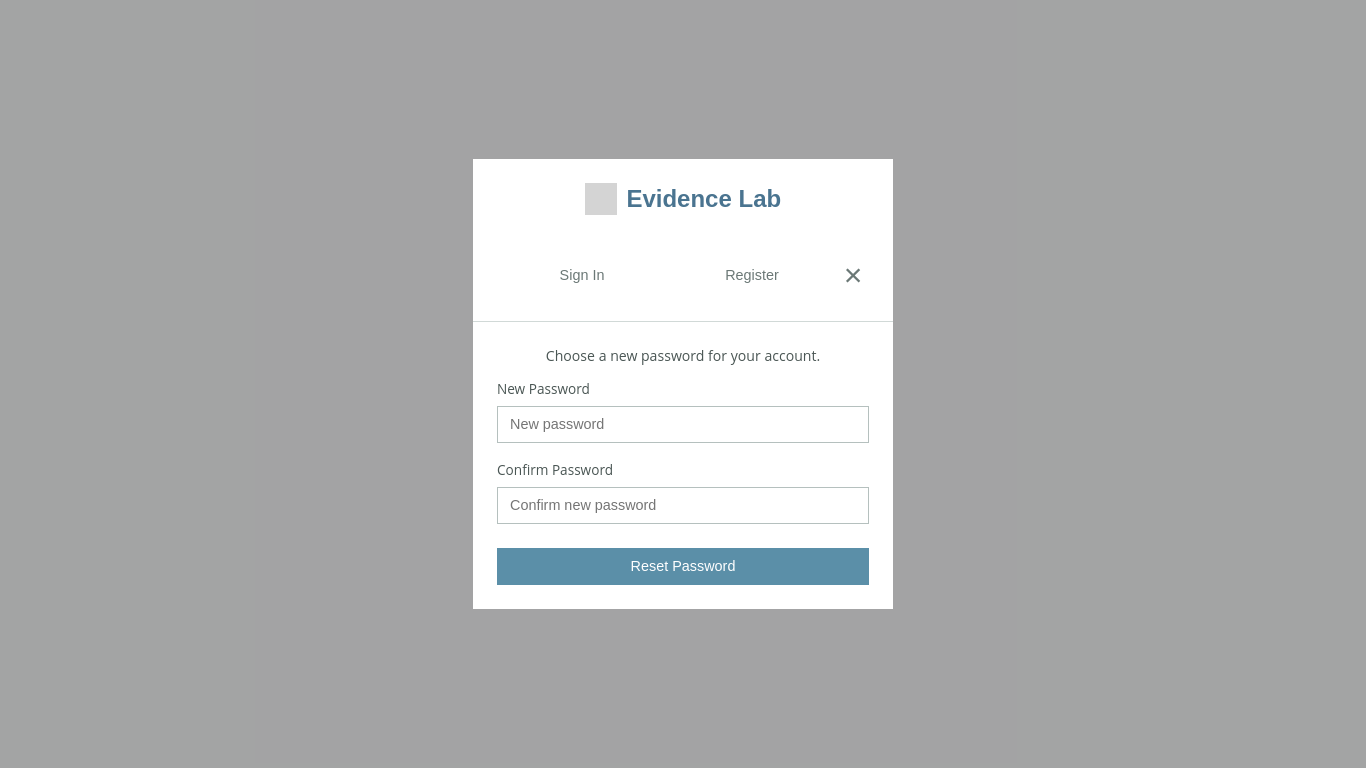
Test: LoginModal — Reset password › submits reset password and shows success on valid token
Type "newpassword123" into the password field labelled "New Password" at (683, 424), box left=497, top=406, right=869, bottom=443
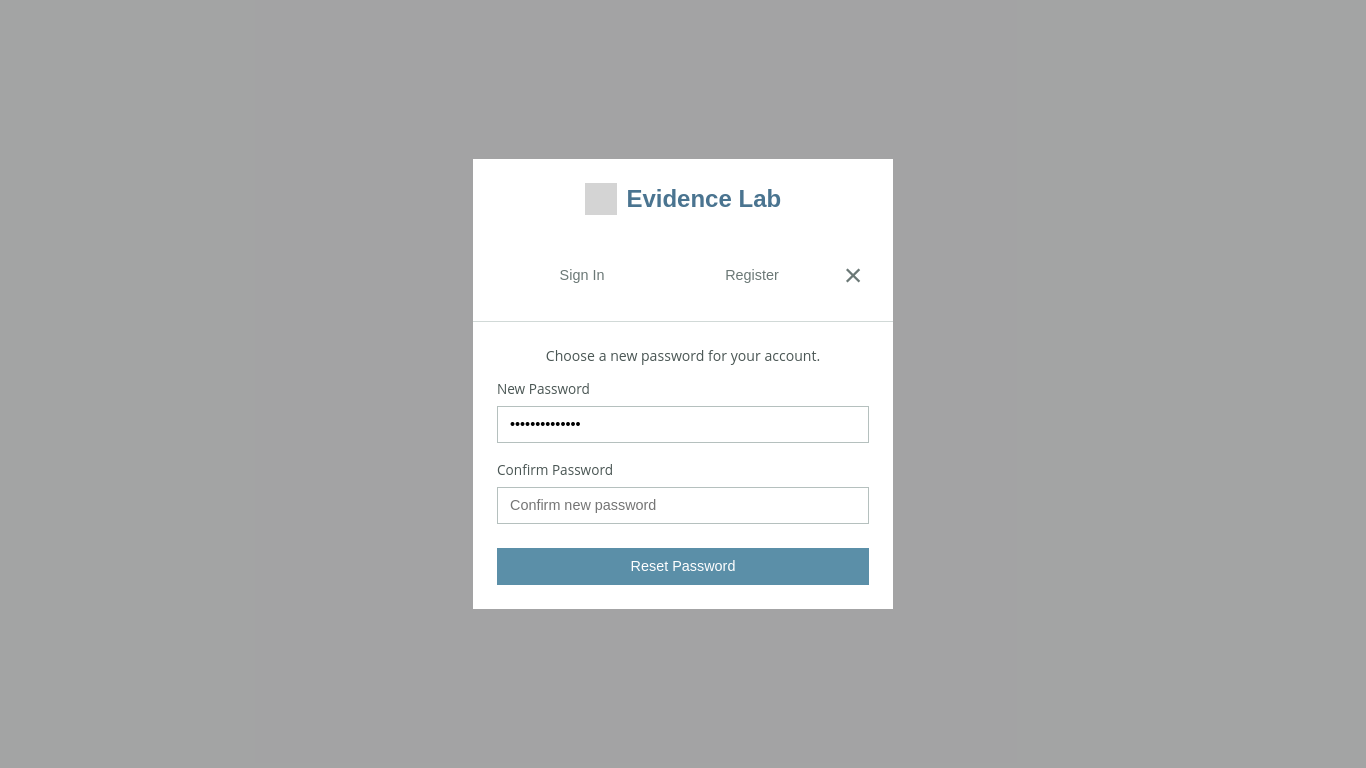
Type "newpassword123" into the password field labelled "Confirm Password" at (683, 505), box left=497, top=487, right=869, bottom=524
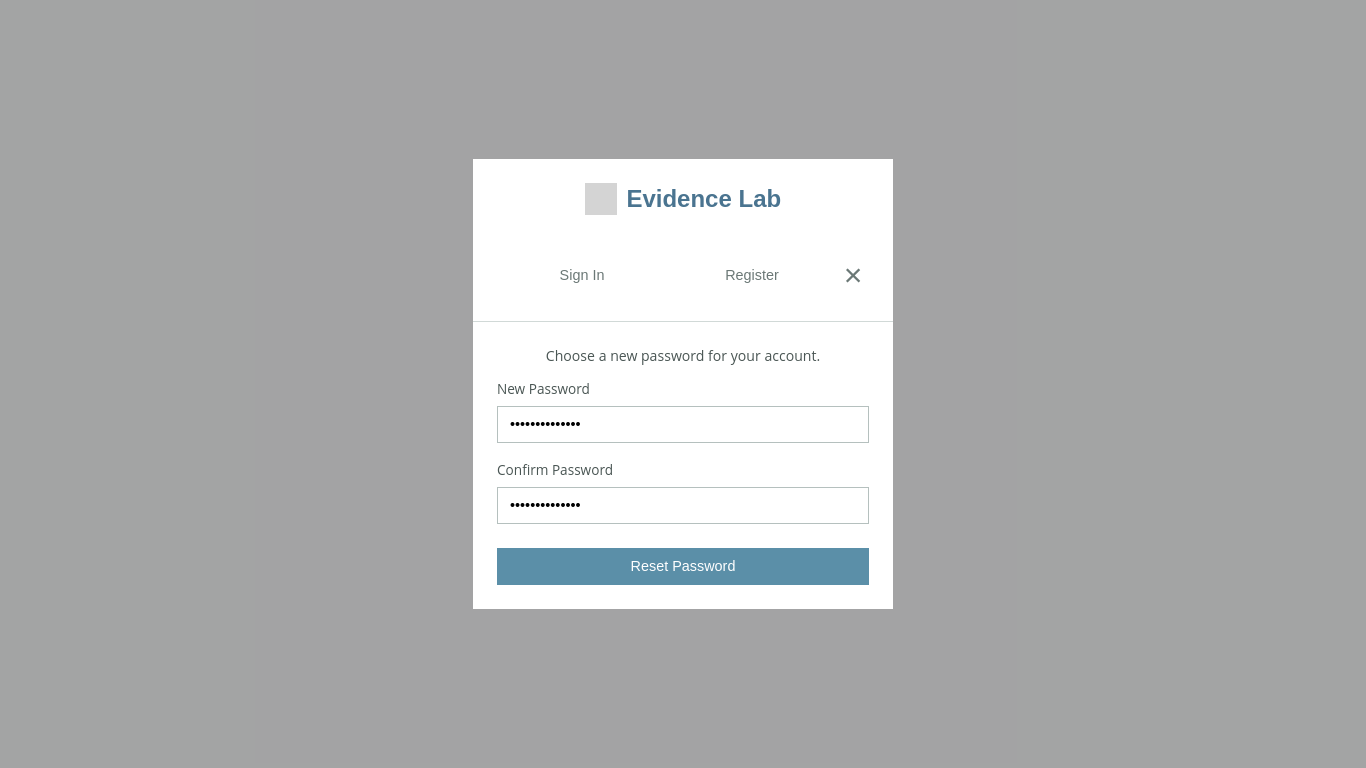
Click the button "Reset Password" at (683, 566), box left=497, top=548, right=869, bottom=585
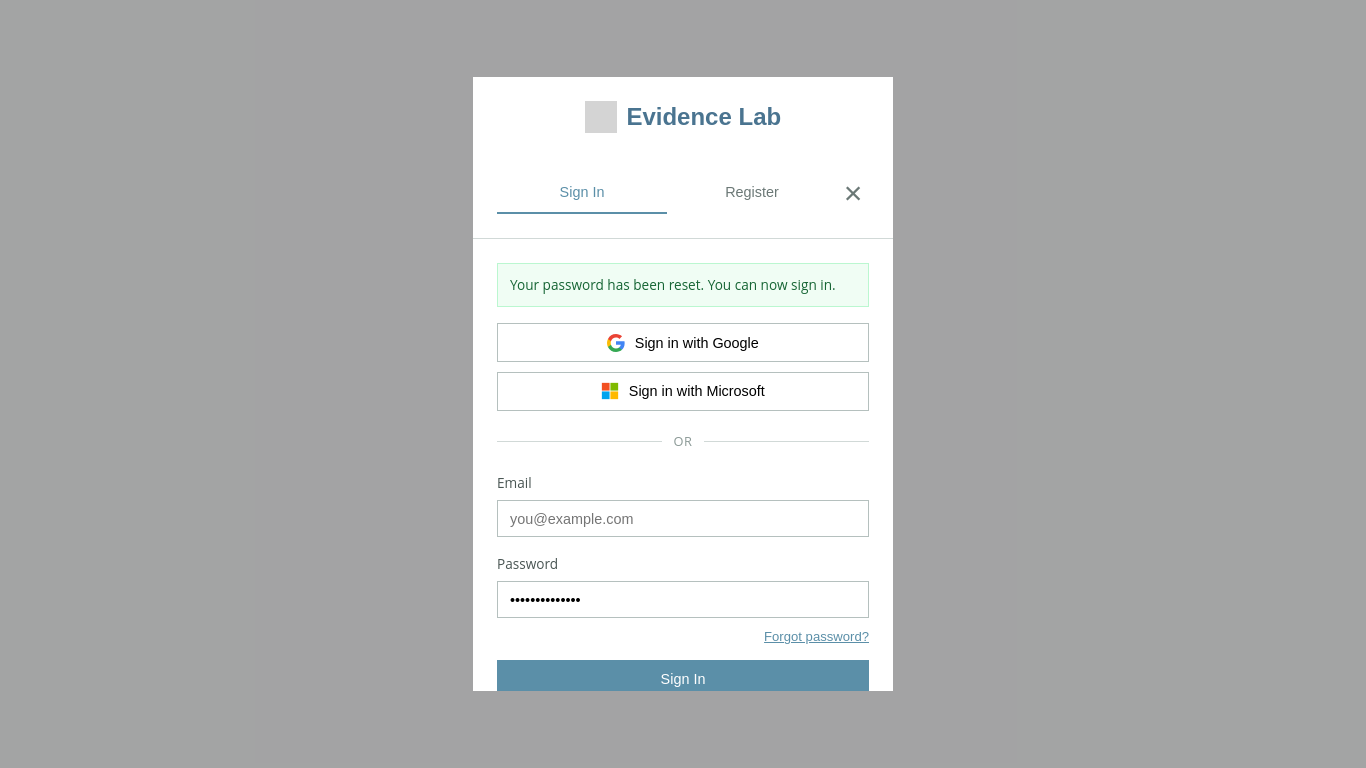
Expected: the text "Your password has been reset. You can now sign in." is shown, left=497, top=263, right=869, bottom=307
